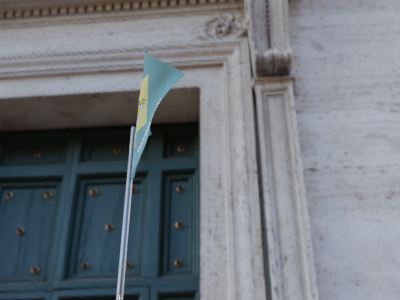Delaware flag: (128, 51, 186, 180)
